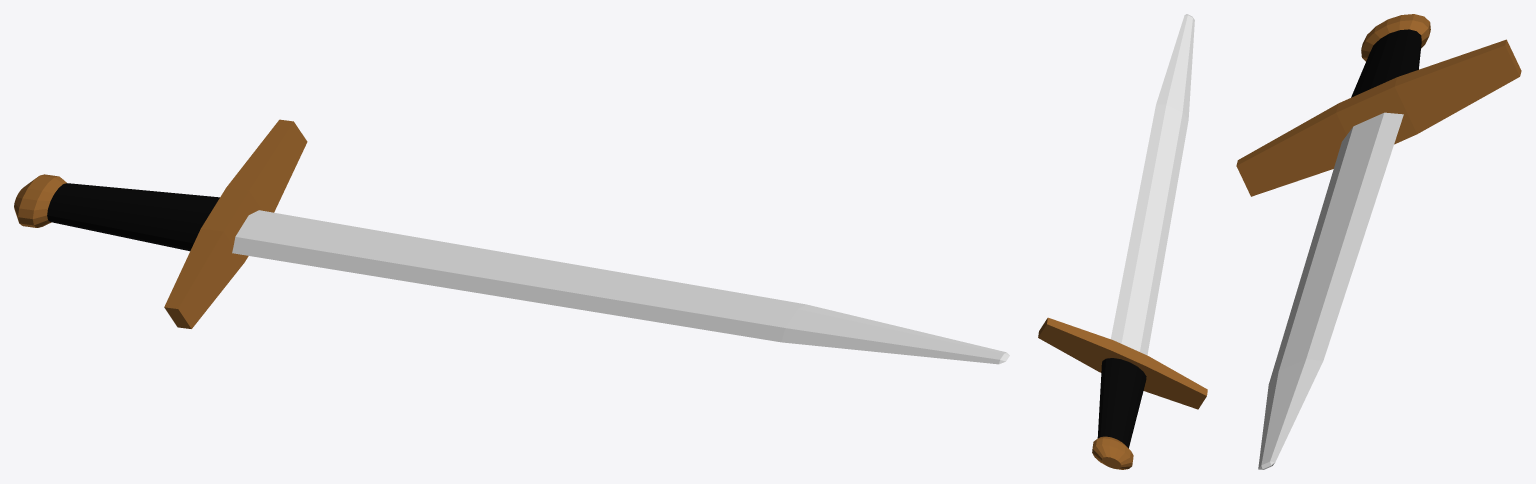
File: Sword.glb
3 views of the same model, side by side, from view 1: azimuth 30°, elevation 25°; view 2: azimuth 150°, elevation 25°; view 3: azimuth 330°, elevation 25° (orthographic). The views are drawn at different scales.
Parts seen in each view (by area): view 1: sword; view 2: sword; view 3: sword.
Boxes of the visible parts, x1,y1,x2,y2 form: sword: (14, 119, 1009, 364); sword: (1038, 14, 1207, 469); sword: (1236, 14, 1521, 469).
Bounding box in the file's own units: 0.4695 × 0.1648 × 0.9849.
